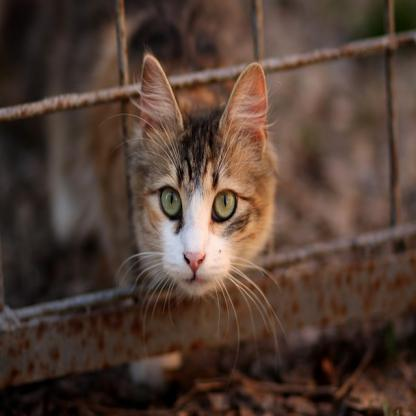cat: (123, 52, 278, 333)
